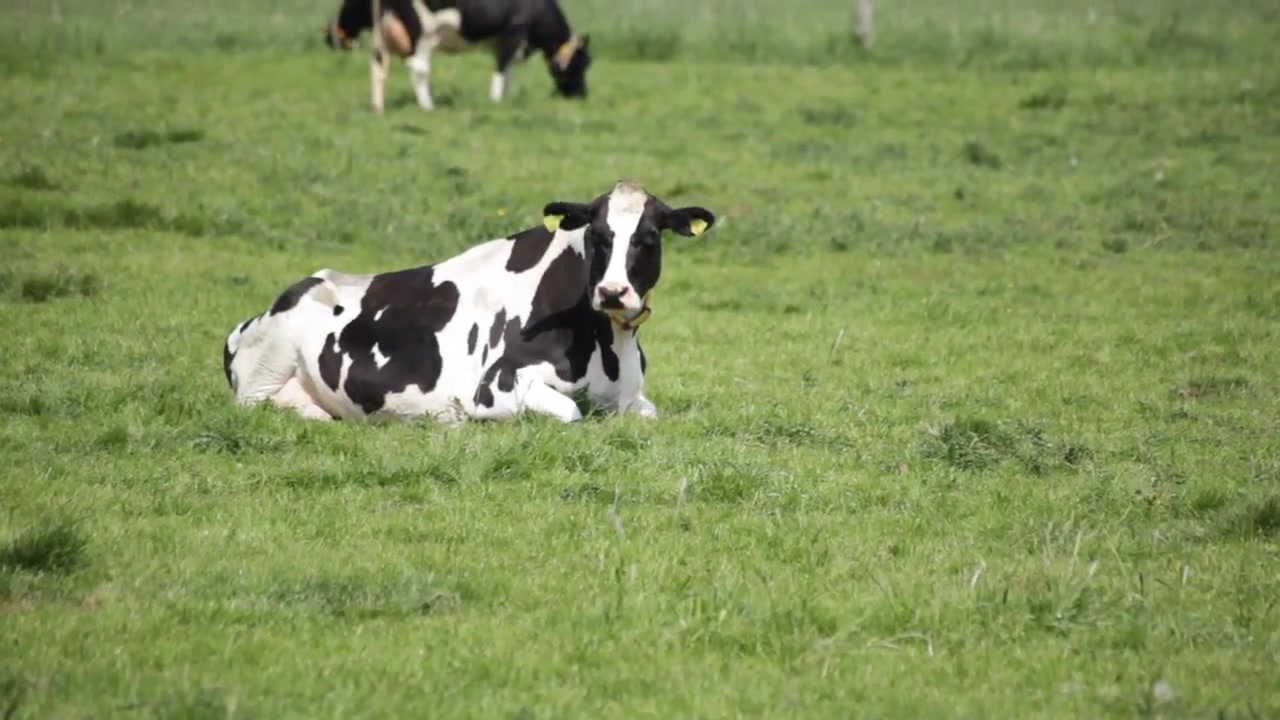cow: (221, 180, 718, 430)
